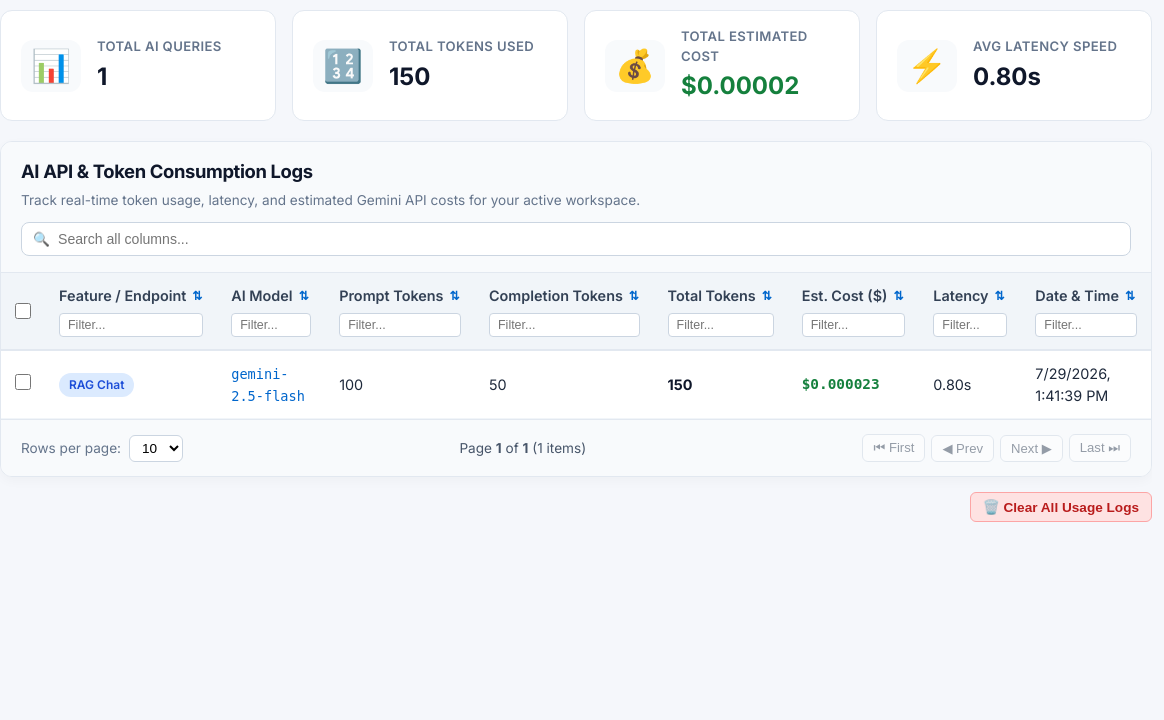
Test: AiUsageTable Component › displays clear button when logs exist and clears logs on click
Click the button "🗑️ Clear All Usage Logs". click: [1061, 507]
box: [970,492,1152,522]
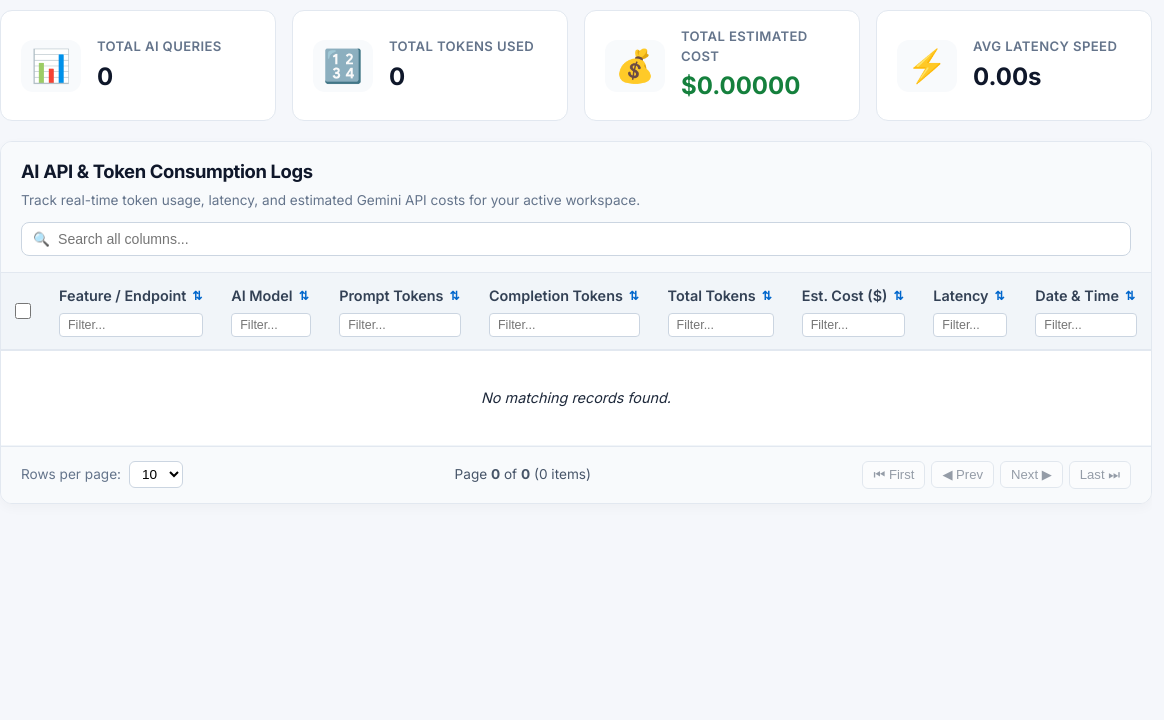
Result: the button "Clear All Usage Logs" is gone
